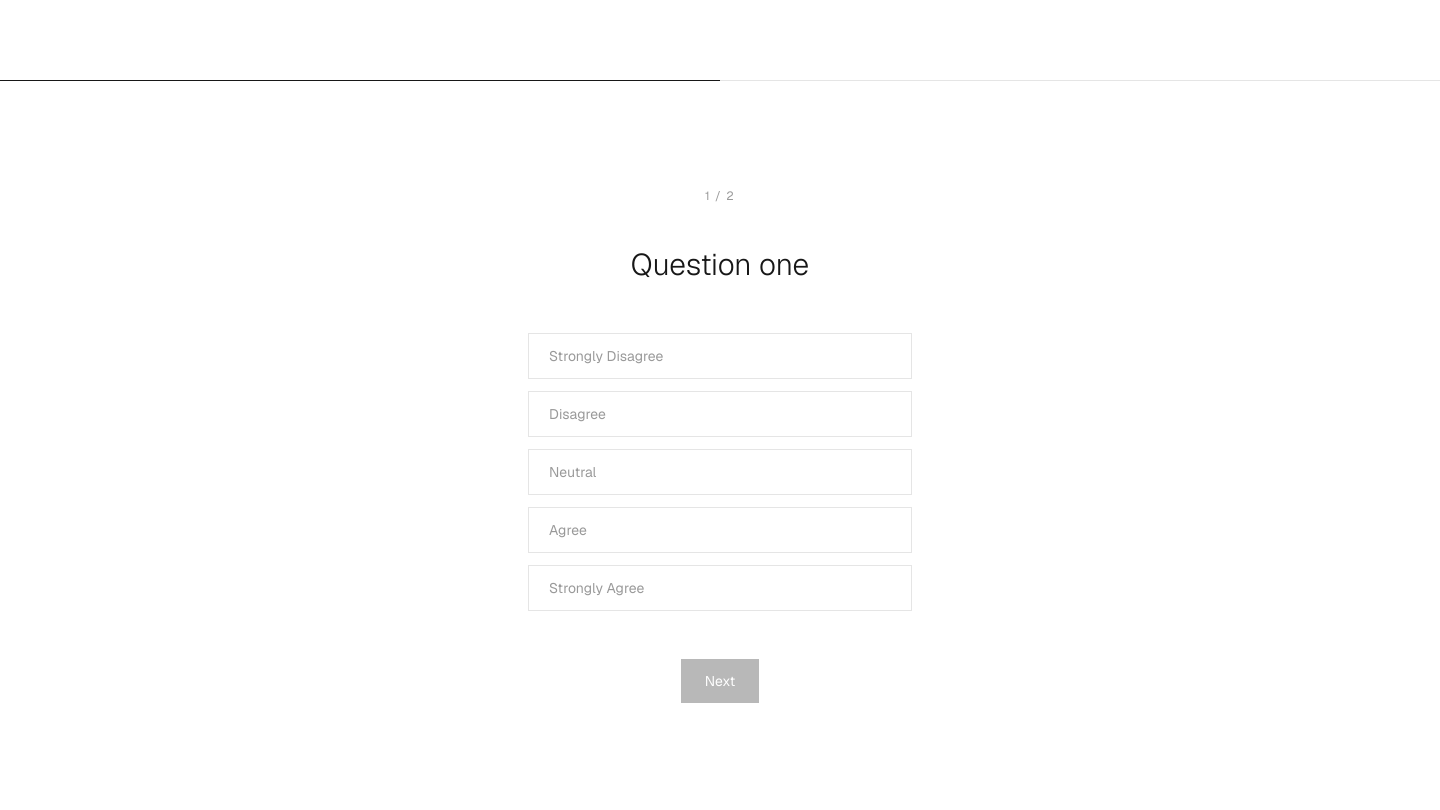
QuizContainer › keeps Next disabled until an option is chosen
Expected: the button "Next" is disabled, [681, 659, 759, 703]
What coordinates should you click on to do the following:
click the button "Agree"
I would click on:
 (568, 530)
Its box is [528, 507, 912, 553].
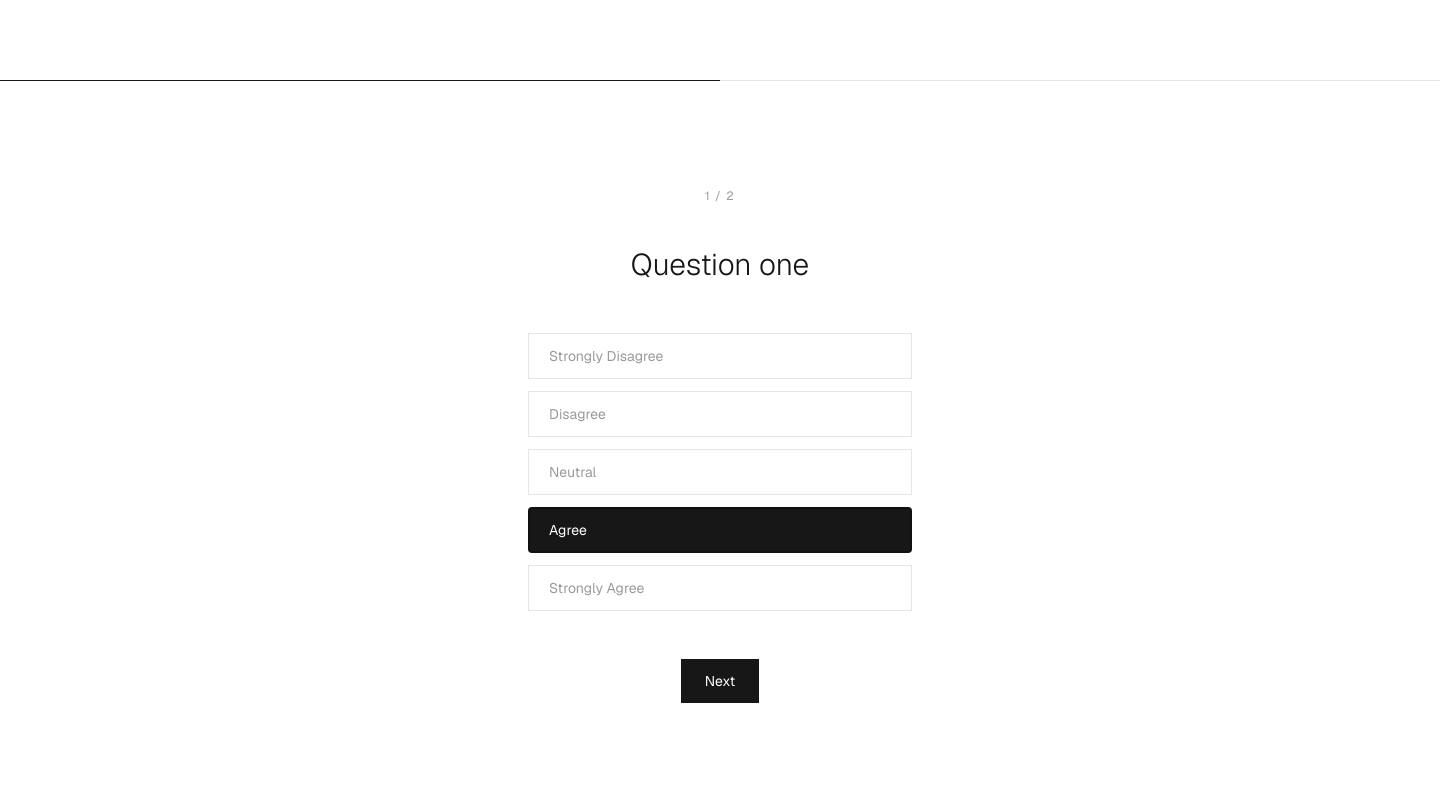
Expected: the button "Next" is enabled, [681, 659, 759, 703]
